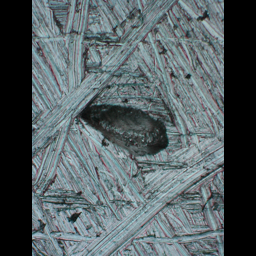d: (32, 1, 181, 167), (77, 99, 172, 163)
